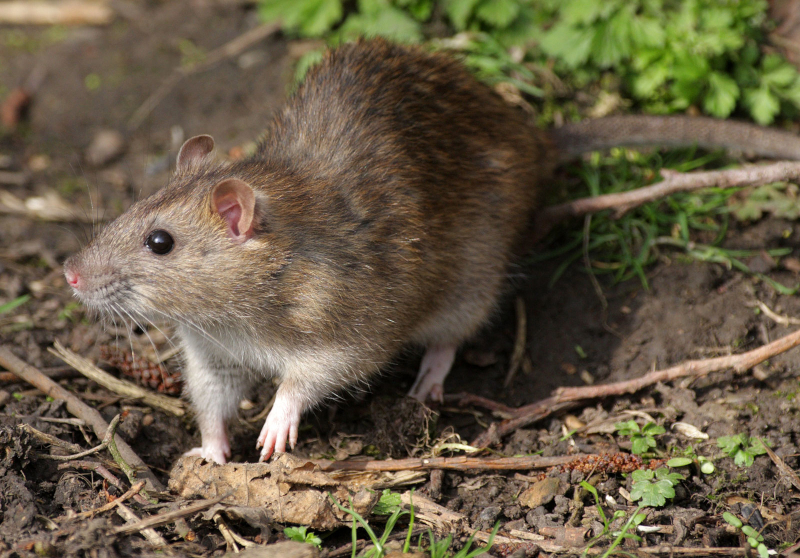rat: (52, 23, 585, 479)
